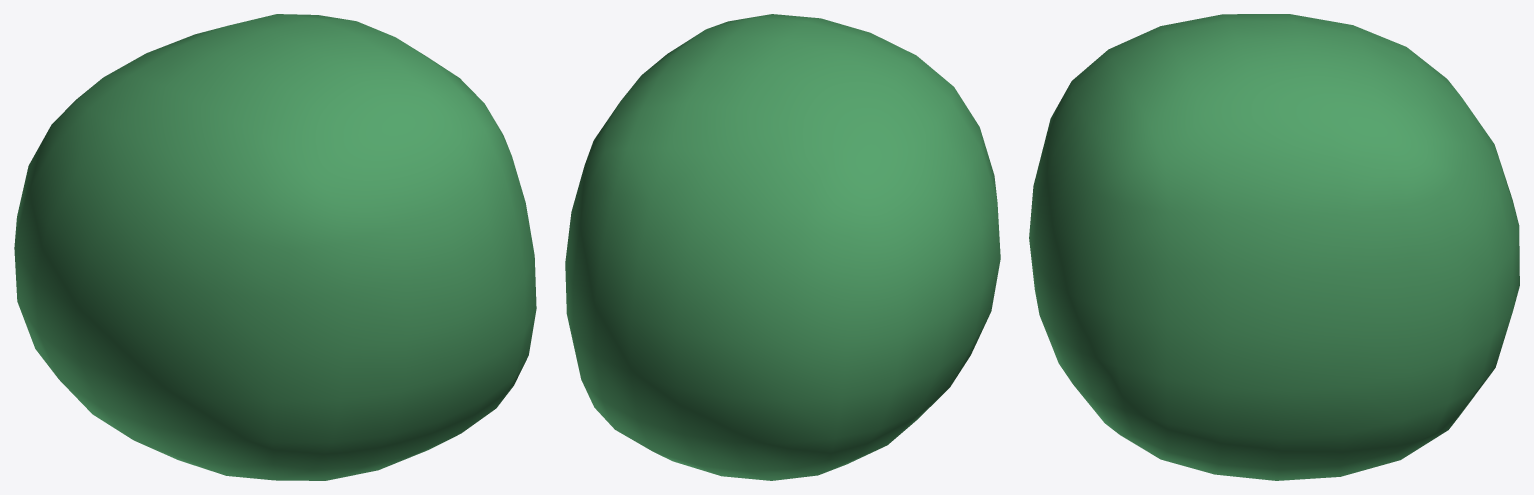
File: Pea_02.dae
3 views of the same model, side by side, from view 1: azimuth 30°, elevation 25°; view 2: azimuth 150°, elevation 25°; view 3: azimuth 270°, elevation 25° (orthographic). The views are drawn at different scales.
Visible parts, largest first — view 1: Pea_02_LOD0; view 2: Pea_02_LOD0; view 3: Pea_02_LOD0.
Boxes of the visible parts, x1,y1,x2,y2 form: Pea_02_LOD0: [14, 14, 536, 480]; Pea_02_LOD0: [565, 14, 1000, 480]; Pea_02_LOD0: [1029, 14, 1519, 480].
Size of what is drawn, in the model's own units: 1.41 by 1.49 by 1.38.
